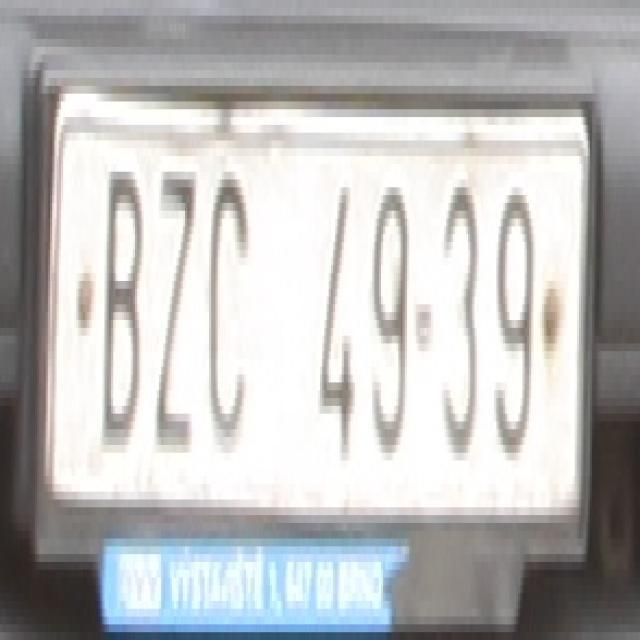3: (439, 172, 476, 445)
4: (320, 164, 357, 453)
9: (370, 172, 409, 445), (494, 188, 531, 460)
B: (98, 156, 142, 445)
C: (204, 164, 247, 445)
Z: (152, 156, 196, 453)
